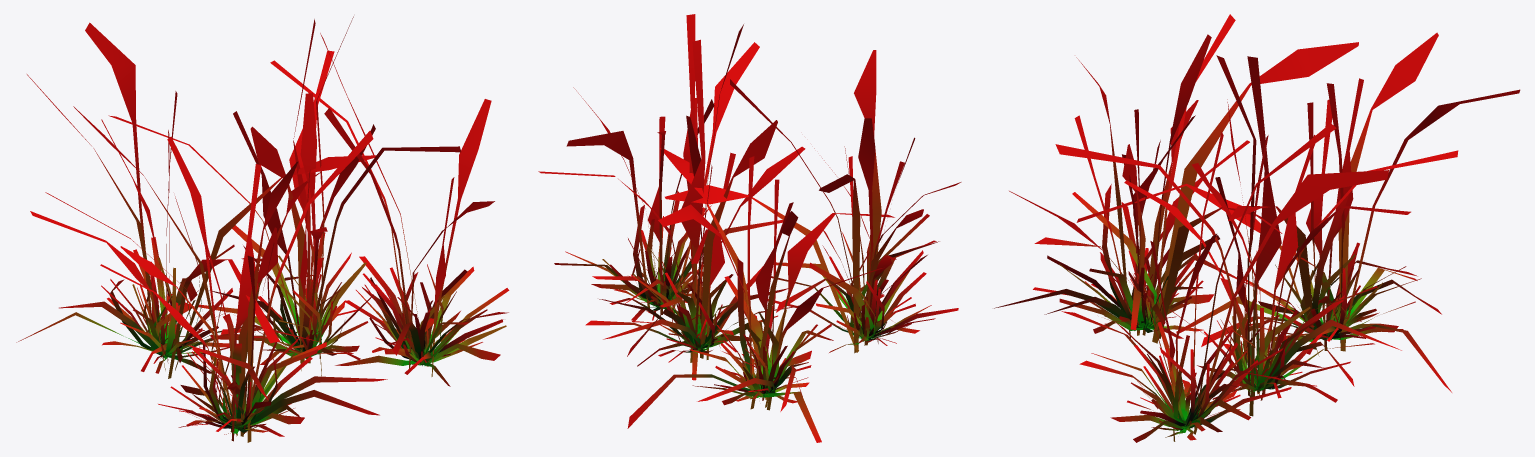
The model's file is Var3_LOD1.fbx.
3 views of the same model, side by side, from view 1: azimuth 30°, elevation 25°; view 2: azimuth 150°, elevation 25°; view 3: azimuth 270°, elevation 25° (orthographic). The views are drawn at different scales.
Visible parts, largest first — view 1: _07bc_Var3_LOD1; view 2: _07bc_Var3_LOD1; view 3: _07bc_Var3_LOD1.
Part boxes in pixels (bbox=[...]): _07bc_Var3_LOD1: bbox=[16, 16, 509, 442]; _07bc_Var3_LOD1: bbox=[538, 14, 961, 442]; _07bc_Var3_LOD1: bbox=[994, 14, 1520, 442].
Bounding box in the file's own units: 119 × 92.88 × 121.
